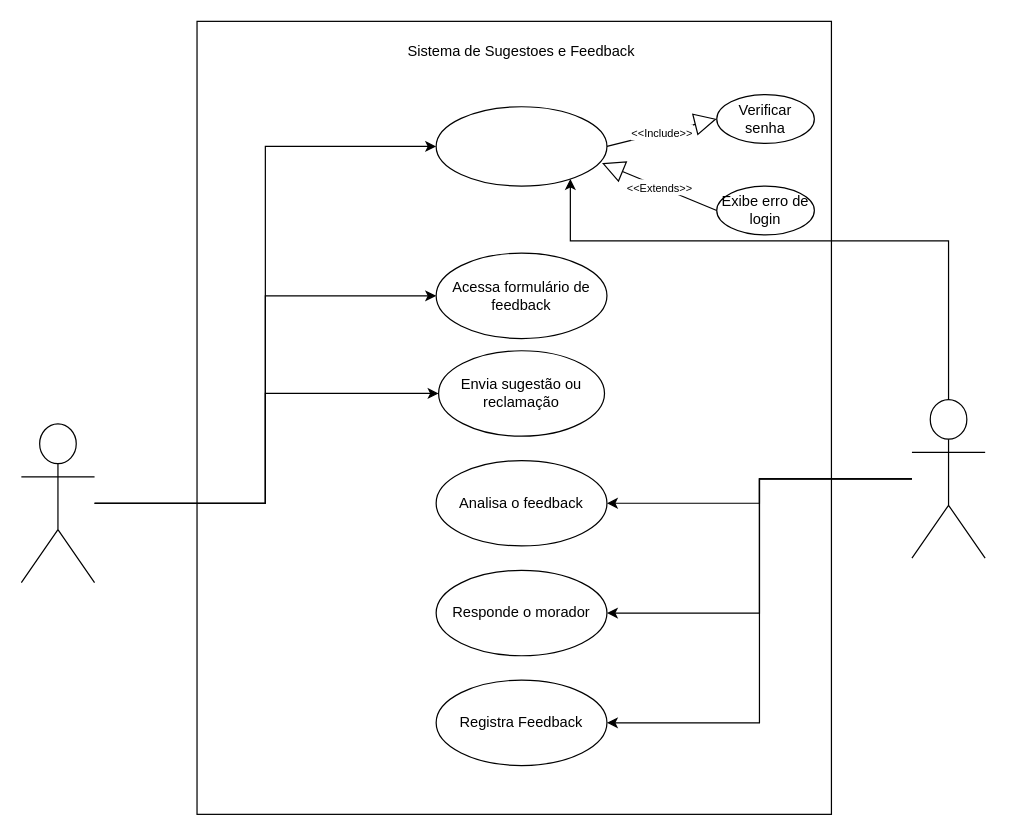
The diagram is 1015 pixels wide and 836 high, and some of its shapes have lost their labels. The shapes that lost their labels are listed below. From the top down, each one's centre as x and y in pixels, then its label:
the point at 521,146: Faz Login
the point at 948,478: Administrador
the point at 57,503: Morador
